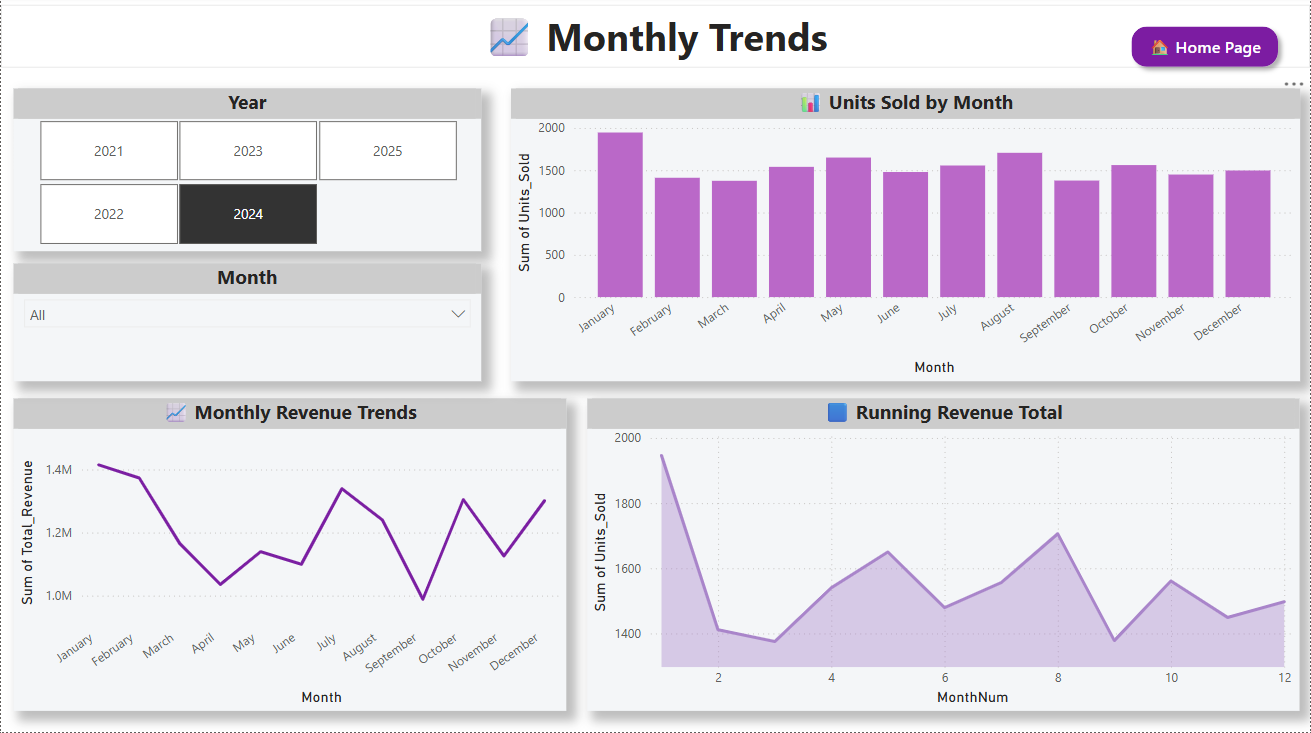

Layout of this report page (visuals, bound fields, positions):
{"tool":"powerbi","page":{"name":"📈 Monthly Trends","canvas":[1280,720],"ordinal":4},"visuals":[{"type":"lineChart","title":"📈 Monthly Revenue Trends","fields":{"Y":["Sum(Fact_Sales.Total_Revenue)"],"Category":["DateTable.Date.Variation.Date Hierarchy.Month"]},"box":[12.2,393.8,540.5,305.7],"z":0},{"type":"textbox","box":[0,8.6,1280.3,61.1],"z":1000},{"type":"shape","box":[1096.9,20.8,161.4,57.5],"z":2000},{"type":"columnChart","title":"📊 Units Sold by Month","fields":{"Y":["Sum(Fact_Sales.Units_Sold)"],"Category":["DateTable.Date.Variation.Date Hierarchy.Month"]},"box":[498.9,90.5,771.6,286.1],"z":3000},{"type":"areaChart","title":"🟦 Running Revenue Total","fields":{"Category":["DateTable.MonthNum"],"Y":["Sum(Fact_Sales.Units_Sold)"]},"box":[573.5,393.8,697,305.7],"z":4000},{"type":"slicer","title":"Year","fields":{"Values":["DateTable.Date.Variation.Date Hierarchy.Year"]},"box":[12.2,90.5,457.3,159],"z":5000},{"type":"slicer","title":"Month","fields":{"Values":["DateTable.Date.Variation.Date Hierarchy.Month"]},"box":[12.2,261.7,457.3,114.9],"z":6000}]}

Visuals, with their boxes in screenshot pixels (x1, y1, x2, y2), scaled from the page's 1280x720 canvas onto the 1311x733 screenshot:
"📈 Monthly Revenue Trends" lineChart: {"x1": 12, "y1": 401, "x2": 566, "y2": 712}
textbox: {"x1": 0, "y1": 9, "x2": 1310, "y2": 71}
shape: {"x1": 1123, "y1": 21, "x2": 1289, "y2": 80}
"📊 Units Sold by Month" columnChart: {"x1": 511, "y1": 92, "x2": 1301, "y2": 383}
"🟦 Running Revenue Total" areaChart: {"x1": 587, "y1": 401, "x2": 1301, "y2": 712}
"Year" slicer: {"x1": 12, "y1": 92, "x2": 481, "y2": 254}
"Month" slicer: {"x1": 12, "y1": 266, "x2": 481, "y2": 383}
